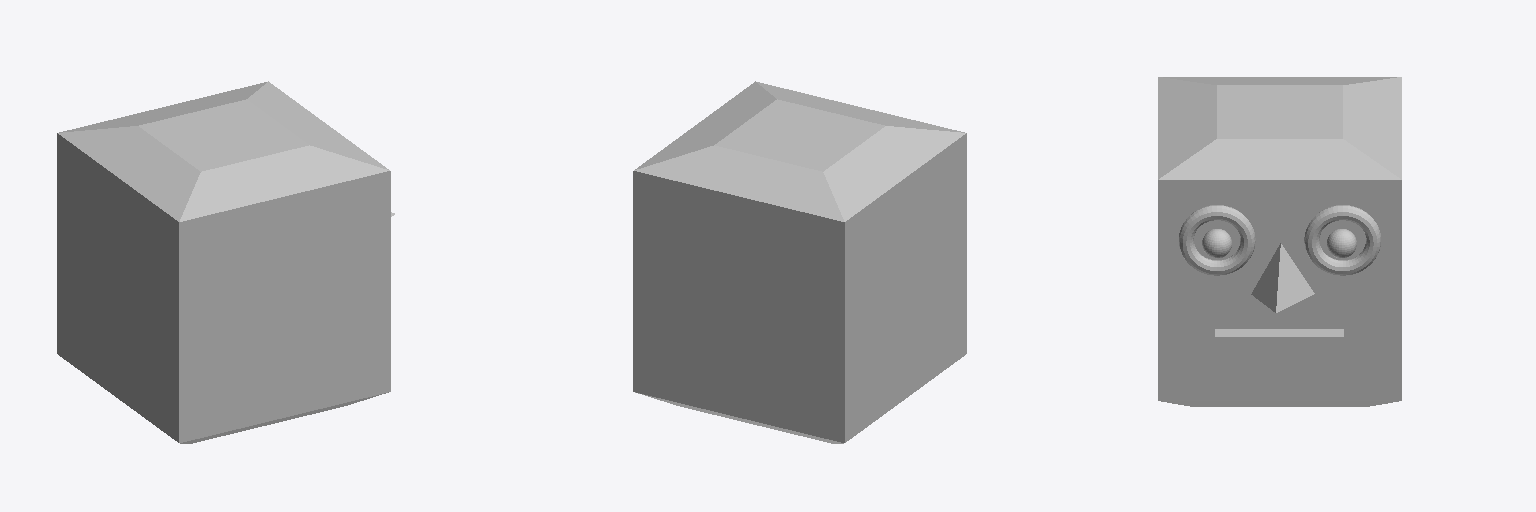
The model's file is testingsmoothing.obj.
3 views of the same model, side by side, from view 1: azimuth 30°, elevation 25°; view 2: azimuth 150°, elevation 25°; view 3: azimuth 270°, elevation 25° (orthographic).
Parts seen in each view (by area): view 1: Mouth_Cube.004; view 2: Mouth_Cube.004; view 3: Mouth_Cube.004.
Boxes of the visible parts, <box> form: Mouth_Cube.004: <box>57,81,394,443</box>; Mouth_Cube.004: <box>633,81,966,443</box>; Mouth_Cube.004: <box>1158,77,1401,406</box>.
Size of the model in its own units: 2.61 by 2.32 by 2.